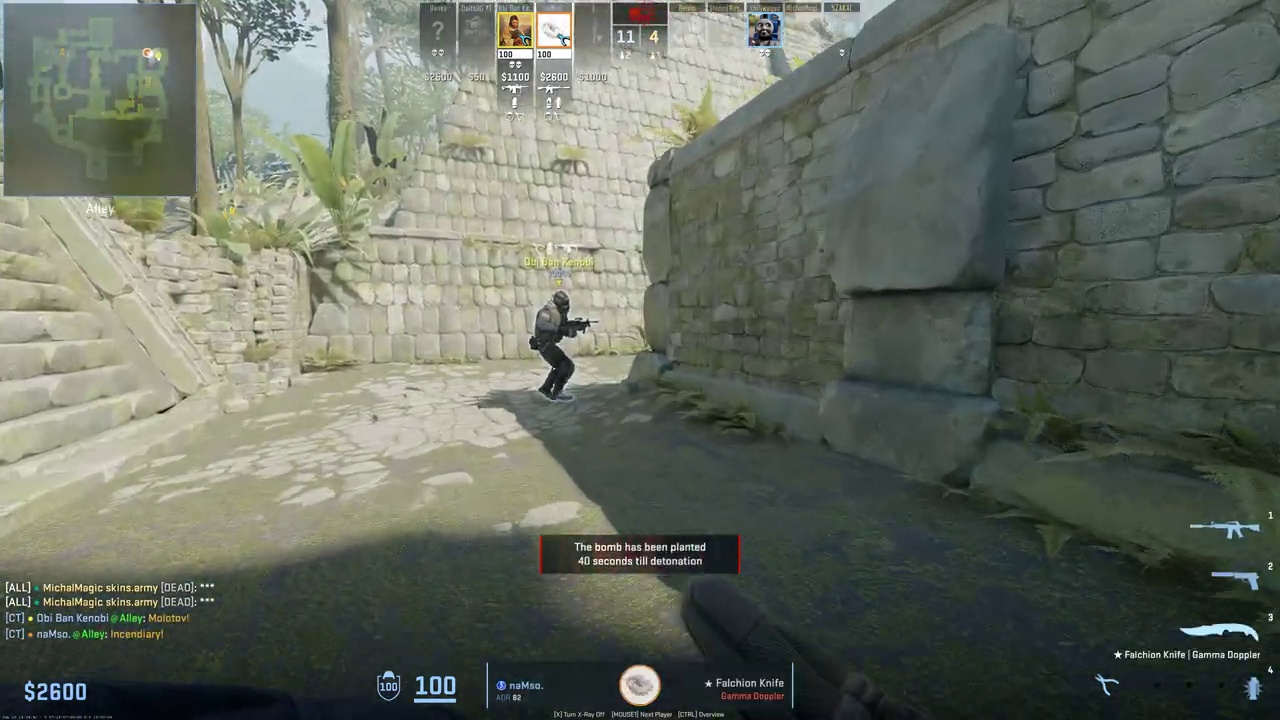CT: (533, 290, 577, 399)
